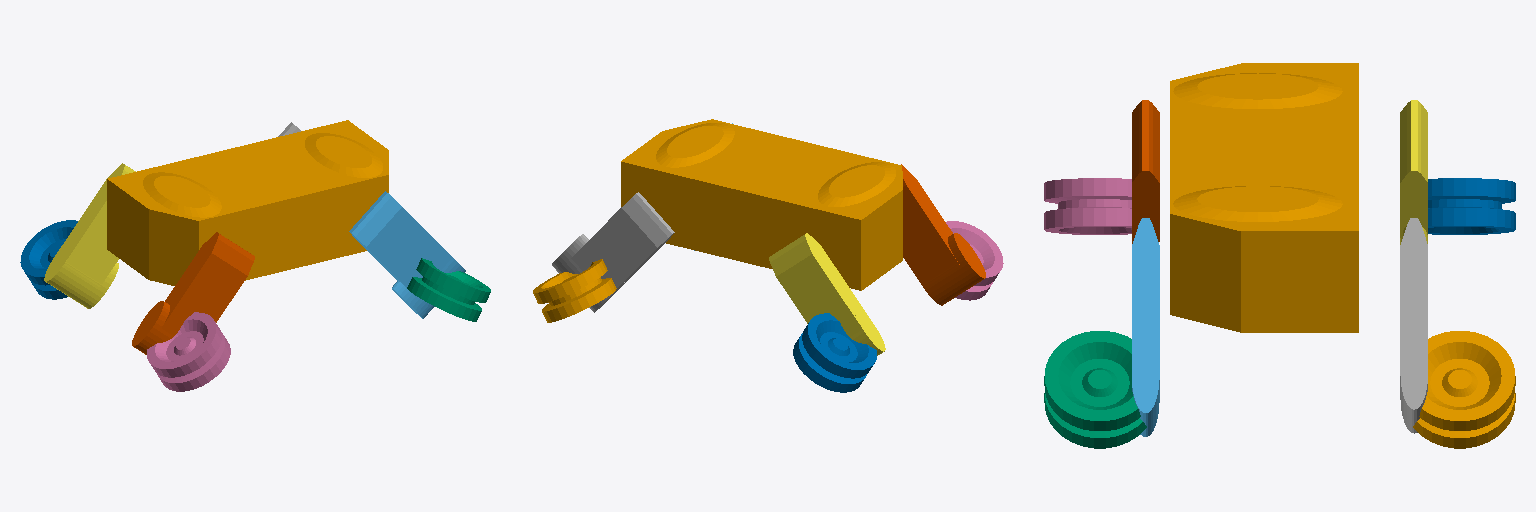
URDF robot description (Dagu5):
<?xml version="1.0"?>
<!-- created with Phobos 0.7 -->
  <robot name="Dagu5">

    <link name="link_Body">
      <inertial>
        <origin xyz="0 0 0" rpy="0 0 0"/>
        <mass value="500.0"/>
        <inertia ixx="320.401184" ixy="1.258749" ixz="6.643906" iyy="233.601669" iyz="0.888276" izz="275.717407"/>
      </inertial>
      <visual name="Body.001">
        <origin xyz="0 0 0" rpy="0 0 0"/>
        <geometry>
          <mesh filename="meshes/Cube.001.obj" scale="2.059298 1.0 0.507399"/>
        </geometry>
      </visual>
      <collision name="Body">
        <origin xyz="0 0 -0.079788" rpy="0 0 0"/>
        <geometry>
          <box size="3.604596 2.184321 0.871725"/>
        </geometry>
      </collision>
    </link>

    <link name="link_Cube">
      <collision name="Cube">
        <origin xyz="0 0 0" rpy="0 0 0"/>
        <geometry>
          <box size="5.026439 0.104412 0.760734"/>
        </geometry>
      </collision>
    </link>

    <link name="link_Cube.001">
      <collision name="Cube.001">
        <origin xyz="0 0 0" rpy="0 0 0"/>
        <geometry>
          <box size="5.026439 0.104412 0.760734"/>
        </geometry>
      </collision>
    </link>

    <link name="link_bl_Leg">
      <inertial>
        <origin xyz="0 0 0" rpy="0 0 0"/>
        <mass value="20.0"/>
        <inertia ixx="12.399544" ixy="-0.039453" ixz="2.498817" iyy="30.488501" iyz="-0.069001" izz="29.675409"/>
      </inertial>
      <visual name="bl_Leg.001">
        <origin xyz="0 0 0" rpy="-3.141593 0 0"/>
        <geometry>
          <mesh filename="meshes/Cube.003.obj" scale="0.68 0.126 0.353675"/>
        </geometry>
      </visual>
      <collision name="bl_Leg">
        <origin xyz="0.518794 0.013662 -0.004787" rpy="0 0 0"/>
        <geometry>
          <box size="1.837332 0.298121 0.712926"/>
        </geometry>
      </collision>
    </link>

    <link name="link_bl_Wheel">
      <inertial>
        <origin xyz="0 0 0" rpy="0 0 0"/>
        <mass value="10.0"/>
        <inertia ixx="0.250197" ixy="0" ixz="0" iyy="0.414742" iyz="-1e-06" izz="0.250197"/>
      </inertial>
      <visual name="bl_Wheel">
        <origin xyz="0 -3e-06 0" rpy="0 0 0"/>
        <geometry>
          <mesh filename="meshes/mesh20.002.obj" scale="1.8 1.8 1.8"/>
        </geometry>
      </visual>
      <collision name="Cylinder.004">
        <origin xyz="-0.005038 -0.117663 0.010326" rpy="-1.570796 0 0"/>
        <geometry>
          <cylinder radius="0.52686" length="0.166"/>
        </geometry>
      </collision>
      <collision name="Cylinder.005">
        <origin xyz="-0.005038 0.169537 0.010326" rpy="-1.570796 0 0"/>
        <geometry>
          <cylinder radius="0.52686" length="0.200036"/>
        </geometry>
      </collision>
    </link>

    <link name="link_br_Leg">
      <inertial>
        <origin xyz="0 0 0" rpy="0 0 0"/>
        <mass value="20.0"/>
        <inertia ixx="12.399544" ixy="-0.039451" ixz="2.498817" iyy="30.488501" iyz="-0.068998" izz="29.675409"/>
      </inertial>
      <visual name="br_Leg.001">
        <origin xyz="0 0 0" rpy="0 0 0"/>
        <geometry>
          <mesh filename="meshes/Cube.006.obj" scale="0.68 0.126 0.353675"/>
        </geometry>
      </visual>
      <collision name="br_Leg">
        <origin xyz="0.511115 0.014924 -0.004787" rpy="0 0 0"/>
        <geometry>
          <box size="1.837332 0.297859 0.712926"/>
        </geometry>
      </collision>
    </link>

    <link name="link_br_Wheel">
      <inertial>
        <origin xyz="0 0 0" rpy="0 0 0"/>
        <mass value="10.0"/>
        <inertia ixx="0.250197" ixy="0" ixz="0" iyy="0.414742" iyz="-2e-06" izz="0.250197"/>
      </inertial>
      <visual name="br_Wheel">
        <origin xyz="0 0 0" rpy="0 0 0"/>
        <geometry>
          <mesh filename="meshes/mesh20.003.obj" scale="1.8 1.8 1.8"/>
        </geometry>
      </visual>
      <collision name="Cylinder.006">
        <origin xyz="2e-06 0.17058 0.010326" rpy="-1.570796 0 0"/>
        <geometry>
          <cylinder radius="0.52686" length="0.200036"/>
        </geometry>
      </collision>
      <collision name="Cylinder.007">
        <origin xyz="2e-06 -0.12091 0.010326" rpy="-1.570796 0 0"/>
        <geometry>
          <cylinder radius="0.52686" length="0.177113"/>
        </geometry>
      </collision>
    </link>

    <link name="link_fl_Leg">
      <inertial>
        <origin xyz="0 0 0" rpy="0 0 0"/>
        <mass value="20.0"/>
        <inertia ixx="12.399542" ixy="-0.039453" ixz="2.498814" iyy="30.488501" iyz="-0.069" izz="29.675406"/>
      </inertial>
      <visual name="fl_Leg">
        <origin xyz="0 0 0" rpy="-3.141593 0 0"/>
        <geometry>
          <mesh filename="meshes/Cube.002.obj" scale="0.680185 0.126111 0.353675"/>
        </geometry>
      </visual>
      <collision name="fl_Leg.001">
        <origin xyz="0.528119 -0.014687 -0.004787" rpy="0 0 0"/>
        <geometry>
          <box size="1.837832 0.298121 0.712926"/>
        </geometry>
      </collision>
    </link>

    <link name="link_fl_Wheel">
      <inertial>
        <origin xyz="0 0 0" rpy="0 0 0"/>
        <mass value="10.0"/>
        <inertia ixx="0.250197" ixy="0" ixz="0" iyy="0.414742" iyz="-2e-06" izz="0.250197"/>
      </inertial>
      <visual name="fl_Wheel">
        <origin xyz="0 0 0" rpy="0 0 0"/>
        <geometry>
          <mesh filename="meshes/mesh20.obj" scale="1.8 1.8 1.8"/>
        </geometry>
      </visual>
      <collision name="Cylinder">
        <origin xyz="-0.004516 0.169534 0.010326" rpy="-1.570796 0 0"/>
        <geometry>
          <cylinder radius="0.52686" length="0.200036"/>
        </geometry>
      </collision>
      <collision name="Cylinder.001">
        <origin xyz="-0.004516 -0.117659 0.010326" rpy="-1.570796 0 0"/>
        <geometry>
          <cylinder radius="0.52686" length="0.166103"/>
        </geometry>
      </collision>
    </link>

    <link name="link_fr_Leg">
      <inertial>
        <origin xyz="0 0 0" rpy="0 0 0"/>
        <mass value="20.0"/>
        <inertia ixx="12.399542" ixy="-0.039456" ixz="2.498814" iyy="30.488501" iyz="-0.068999" izz="29.675406"/>
      </inertial>
      <visual name="fr_Leg">
        <origin xyz="0 0 0" rpy="0 0 0"/>
        <geometry>
          <mesh filename="meshes/Cube.005.obj" scale="0.680185 0.126 0.353675"/>
        </geometry>
      </visual>
      <collision name="fr_Leg.001">
        <origin xyz="0.523355 0.017102 -0.004787" rpy="0 0 0"/>
        <geometry>
          <box size="1.837831 0.297859 0.712926"/>
        </geometry>
      </collision>
    </link>

    <link name="link_fr_Wheel">
      <inertial>
        <origin xyz="0 0 0" rpy="0 0 0"/>
        <mass value="10.0"/>
        <inertia ixx="0.250197" ixy="0" ixz="0" iyy="0.414742" iyz="-2e-06" izz="0.250197"/>
      </inertial>
      <visual name="fr_Wheel">
        <origin xyz="0 0 0" rpy="0 0 0"/>
        <geometry>
          <mesh filename="meshes/mesh20.001.obj" scale="1.8 1.8 1.8"/>
        </geometry>
      </visual>
      <collision name="Cylinder.002">
        <origin xyz="-0.004516 -0.120907 0.010326" rpy="-1.570796 0 0"/>
        <geometry>
          <cylinder radius="0.52686" length="0.177113"/>
        </geometry>
      </collision>
      <collision name="Cylinder.003">
        <origin xyz="-0.004516 0.170581 0.010326" rpy="-1.570796 0 0"/>
        <geometry>
          <cylinder radius="0.52686" length="0.200036"/>
        </geometry>
      </collision>
    </link>

    <joint name="link_Cube" type="fixed">
      <origin xyz="0.015789 1.920648 -0.852022" rpy="-3.141593 0 0"/>
      <parent link="link_Body"/>
      <child link="link_Cube"/>
    </joint>

    <joint name="link_Cube.001" type="fixed">
      <origin xyz="0.015789 -2.0 -0.852022" rpy="-3.141593 0 0"/>
      <parent link="link_Body"/>
      <child link="link_Cube.001"/>
    </joint>

    <joint name="link_bl_Leg" type="fixed">
      <origin xyz="-1.2458 1.218903 -0.142793" rpy="0 2.268928 0"/>
      <parent link="link_Body"/>
      <child link="link_bl_Leg"/>
    </joint>

    <joint name="link_bl_Wheel" type="revolute">
      <origin xyz="1.101439 0.415044 0.029943" rpy="0 -0.349066 -3.141593"/>
      <parent link="link_bl_Leg"/>
      <child link="link_bl_Wheel"/>
      <limit effort="0" velocity="0"/>
    </joint>

    <joint name="link_br_Leg" type="fixed">
      <origin xyz="-1.2458 -1.2189 -0.142793" rpy="0 2.268928 0"/>
      <parent link="link_Body"/>
      <child link="link_br_Leg"/>
    </joint>

    <joint name="link_br_Wheel" type="revolute">
      <origin xyz="1.101439 -0.41505 0.029943" rpy="0 -0.349066 -3.141593"/>
      <parent link="link_br_Leg"/>
      <child link="link_br_Wheel"/>
      <limit effort="0" velocity="0"/>
    </joint>

    <joint name="link_fl_Leg" type="fixed">
      <origin xyz="1.245803 1.218903 -0.142793" rpy="0 0.872665 0"/>
      <parent link="link_Body"/>
      <child link="link_fl_Leg"/>
    </joint>

    <joint name="link_fl_Wheel" type="revolute">
      <origin xyz="1.126317 0.415044 -0.020888" rpy="3.141593 -0.349066 0"/>
      <parent link="link_fl_Leg"/>
      <child link="link_fl_Wheel"/>
      <limit effort="0" velocity="1.0"/>
    </joint>

    <joint name="link_fr_Leg" type="fixed">
      <origin xyz="1.245803 -1.2189 -0.142793" rpy="0 0.872665 0"/>
      <parent link="link_Body"/>
      <child link="link_fr_Leg"/>
    </joint>

    <joint name="link_fr_Wheel" type="revolute">
      <origin xyz="1.126317 -0.41505 -0.020888" rpy="3.141593 -0.349066 0"/>
      <parent link="link_fr_Leg"/>
      <child link="link_fr_Wheel"/>
      <limit effort="0" velocity="1.0"/>
    </joint>

  </robot>

--- What the picture shows (computed from the rendered views, not written in the file) ---
3 views of the same robot in one strip: view 1: azimuth 30°, elevation 25°; view 2: azimuth 150°, elevation 25°; view 3: azimuth 270°, elevation 25° (orthographic).
Model Dagu5 with 11 links and 10 joints (4 revolute, 6 fixed), rooted at link_Body, posed every joint at zero.
Visible links, largest first — view 1: link_Body, link_br_Leg, link_fr_Leg, link_bl_Leg, link_br_Wheel, link_fr_Wheel, link_bl_Wheel; view 2: link_Body, link_br_Leg, link_bl_Leg, link_fl_Leg, link_bl_Wheel, link_fl_Wheel, link_br_Wheel; view 3: link_Body, link_fr_Wheel, link_fl_Wheel, link_fr_Leg, link_fl_Leg, link_bl_Wheel, link_br_Wheel, link_br_Leg, link_bl_Leg.
Link boxes in pixels (x1,y1,x2,y2): link_Body: (107, 120, 388, 285); link_br_Leg: (132, 232, 254, 354); link_fr_Leg: (349, 191, 465, 318); link_bl_Leg: (44, 163, 135, 308); link_br_Wheel: (147, 312, 230, 391); link_fr_Wheel: (407, 258, 490, 321); link_bl_Wheel: (20, 220, 77, 299); link_Body: (621, 119, 902, 290); link_br_Leg: (901, 164, 985, 305); link_bl_Leg: (769, 233, 885, 355); link_fl_Leg: (552, 192, 674, 312); link_bl_Wheel: (793, 313, 876, 392); link_fl_Wheel: (533, 259, 616, 322); link_br_Wheel: (946, 221, 1003, 300); link_Body: (1170, 63, 1358, 332); link_fr_Wheel: (1044, 331, 1146, 448); link_fl_Wheel: (1413, 331, 1515, 448); link_fr_Leg: (1132, 218, 1159, 436); link_fl_Leg: (1400, 218, 1427, 433); link_bl_Wheel: (1428, 178, 1515, 234); link_br_Wheel: (1044, 178, 1131, 234); link_br_Leg: (1132, 100, 1159, 243); link_bl_Leg: (1400, 100, 1427, 244).
Bounding box of the posed robot: 5.08 × 4.28 × 2.11 m (x, y, z).
Meshes: 9 distinct files referenced, 9 mesh visuals loaded (9 OBJ).